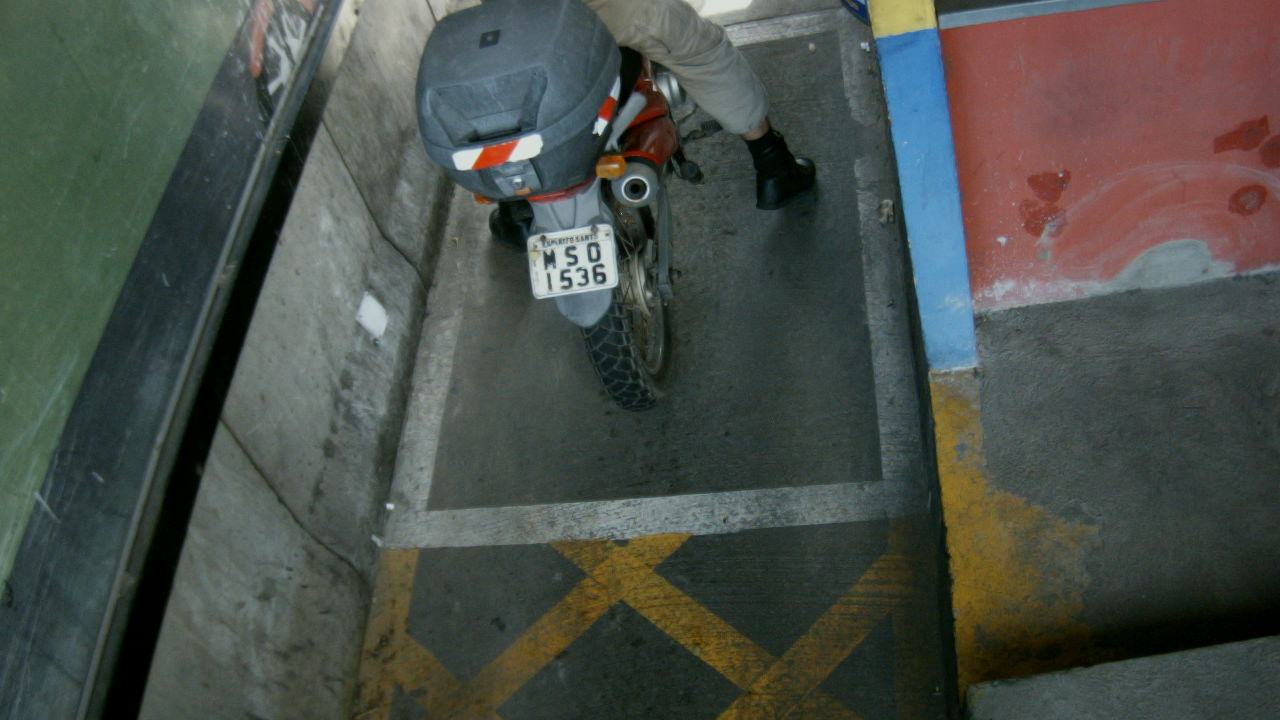placa: (525, 222, 619, 300)
